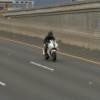Motorcycle: (32, 30, 68, 72)
